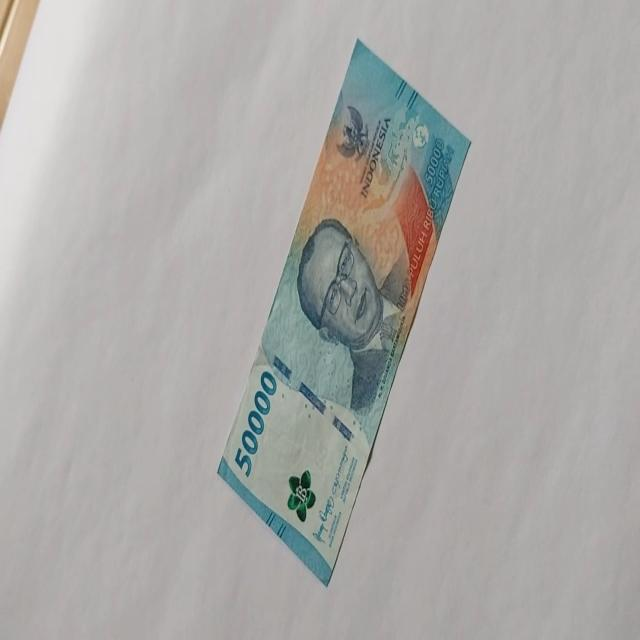lima puluh ribu rupiah: (216, 36, 472, 586), (294, 214, 412, 420), (233, 368, 277, 478)
